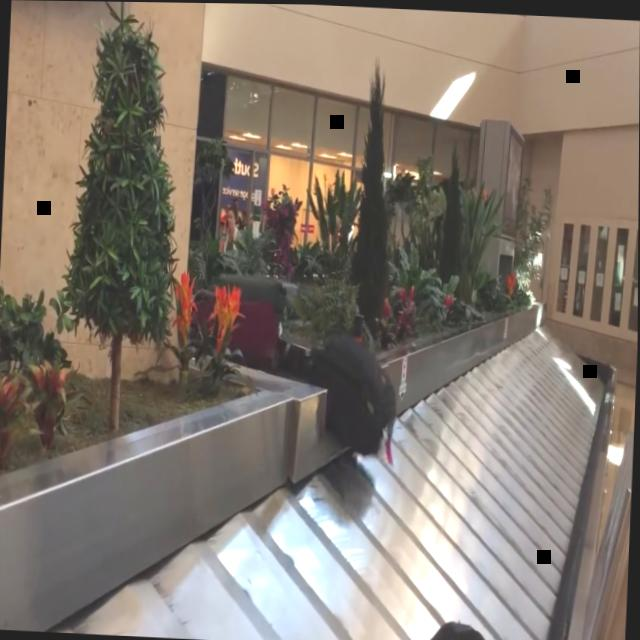luggage: (307, 326, 401, 459), (186, 291, 280, 372), (212, 270, 287, 312), (409, 616, 508, 640)
